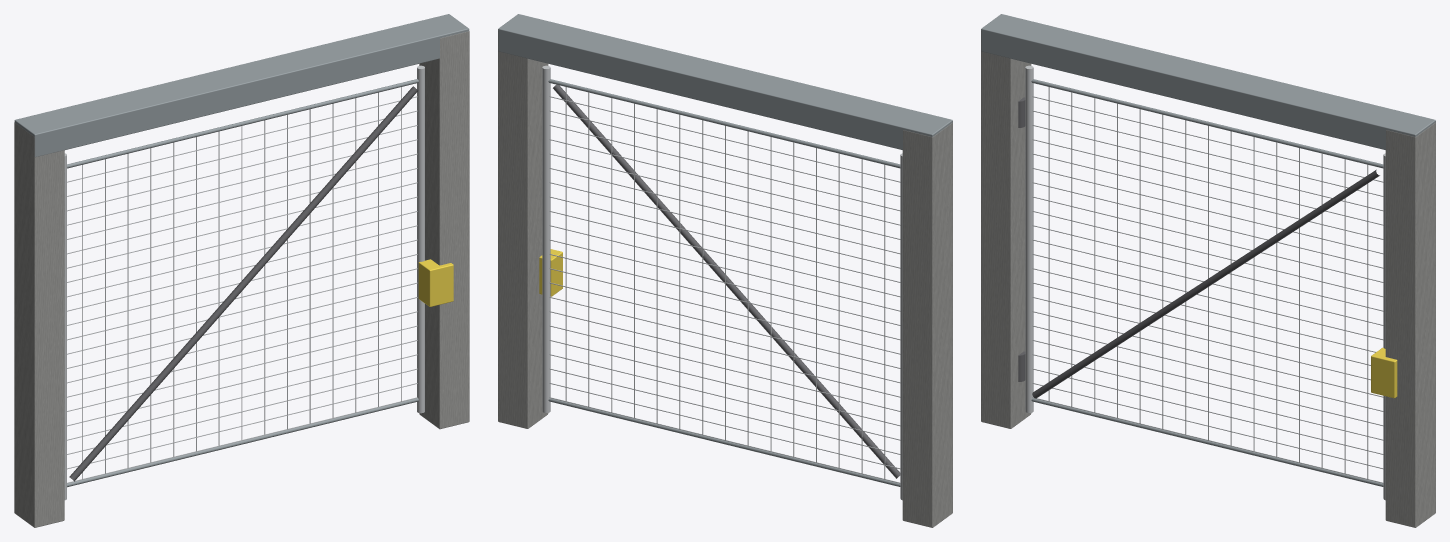
File: prison-complex-builder-vehicle-sally-port-gate-1bda95eb__25636.glb
The picture shows the model from 3 angles, left to right: view 1: azimuth 30°, elevation 25°; view 2: azimuth 150°, elevation 25°; view 3: azimuth 330°, elevation 25°; orthographic projection.
Visible parts, largest first — view 1: vehicle-sally-port-gate, sally-port-gate/steelGalv, sally-port-gate/steelDark, sally-port-gate/steelPainted; view 2: vehicle-sally-port-gate, sally-port-gate/steelGalv, sally-port-gate/steelDark, sally-port-gate/steelPainted; view 3: vehicle-sally-port-gate, sally-port-gate/steelGalv, sally-port-gate/steelPainted, sally-port-gate/steelDark.
Part boxes in pixels (x1,y1,x2,y2): vehicle-sally-port-gate: (14, 14, 469, 527); sally-port-gate/steelGalv: (64, 65, 424, 500); sally-port-gate/steelDark: (69, 86, 417, 481); sally-port-gate/steelPainted: (67, 79, 418, 487); vehicle-sally-port-gate: (498, 14, 952, 527); sally-port-gate/steelGalv: (542, 65, 902, 500); sally-port-gate/steelDark: (553, 84, 900, 478); sally-port-gate/steelPainted: (548, 79, 900, 486); vehicle-sally-port-gate: (981, 14, 1435, 527); sally-port-gate/steelGalv: (1025, 65, 1385, 500); sally-port-gate/steelPainted: (1031, 79, 1383, 486); sally-port-gate/steelDark: (1032, 169, 1379, 398).
Bounding box in the file's own units: 4.3 × 3.72 × 0.3962.
Materials: 5 (1 with a texture image).
